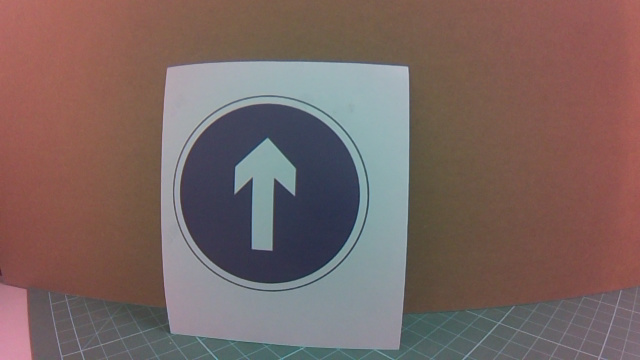forward: (187, 92, 383, 298)
